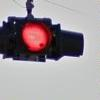traffic lights: (16, 16, 52, 63), (52, 21, 87, 66)
